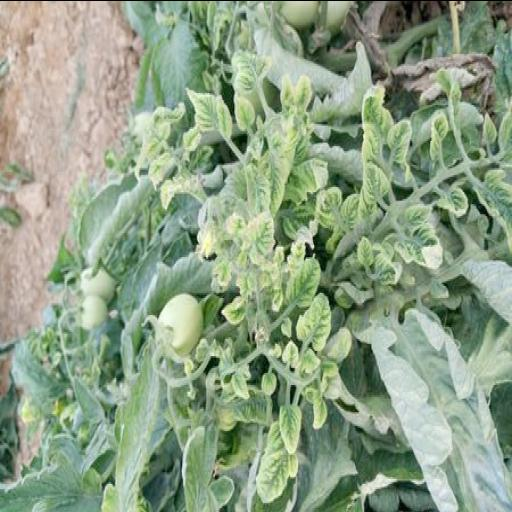disease_tomato: (194, 52, 310, 336), (256, 435, 302, 507), (186, 78, 234, 140), (393, 221, 445, 273), (358, 77, 394, 147), (316, 180, 360, 234), (300, 290, 334, 356), (242, 201, 276, 263), (286, 252, 322, 308), (230, 50, 272, 92), (276, 402, 304, 456), (362, 158, 387, 208), (428, 114, 449, 164), (231, 92, 257, 130), (356, 234, 374, 266)
